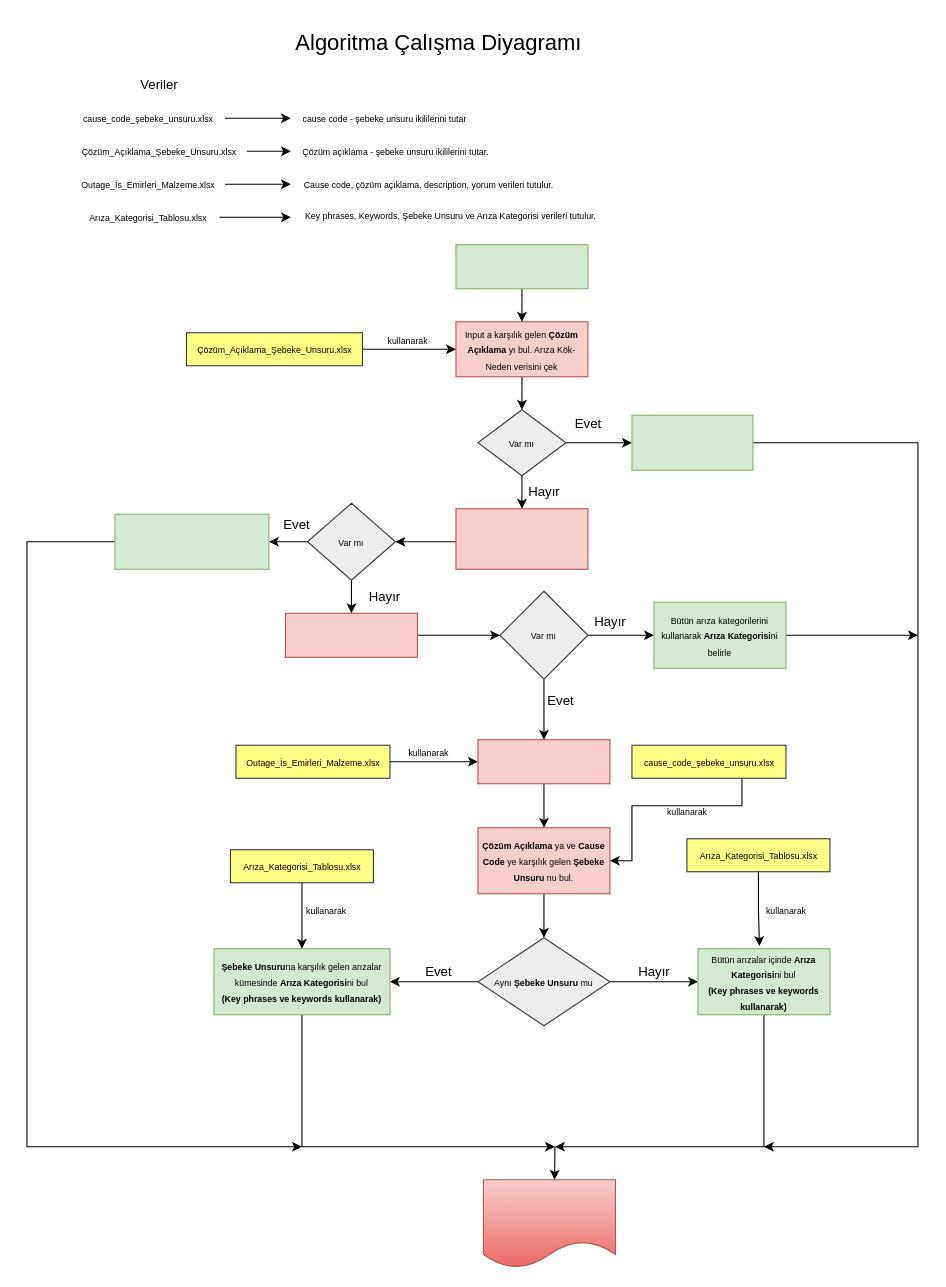
This 946x1287 diagram has some shape labels left out. The shapes that lost their labels are listed below. From the top down, each one's centre as x and y in pixels, then its label:
At pixel 521 266: "Input al".
At pixel 692 442: "İlgili input için Arıza Kök-Neden bulundu".
At pixel 191 541: "İlgili input için Arıza Kategori si bulundu".
At pixel 521 538: "Çözüm Açıklama ya karşılık gelen Arıza Kategorisi verisini çek".
At pixel 350 634: "Şebeke Unsuru verisini çek".
At pixel 543 761: "Çözüm Açıklama ya karşılık gelen Cause Code yi bul".
At pixel 548 1223: "Bitir".
